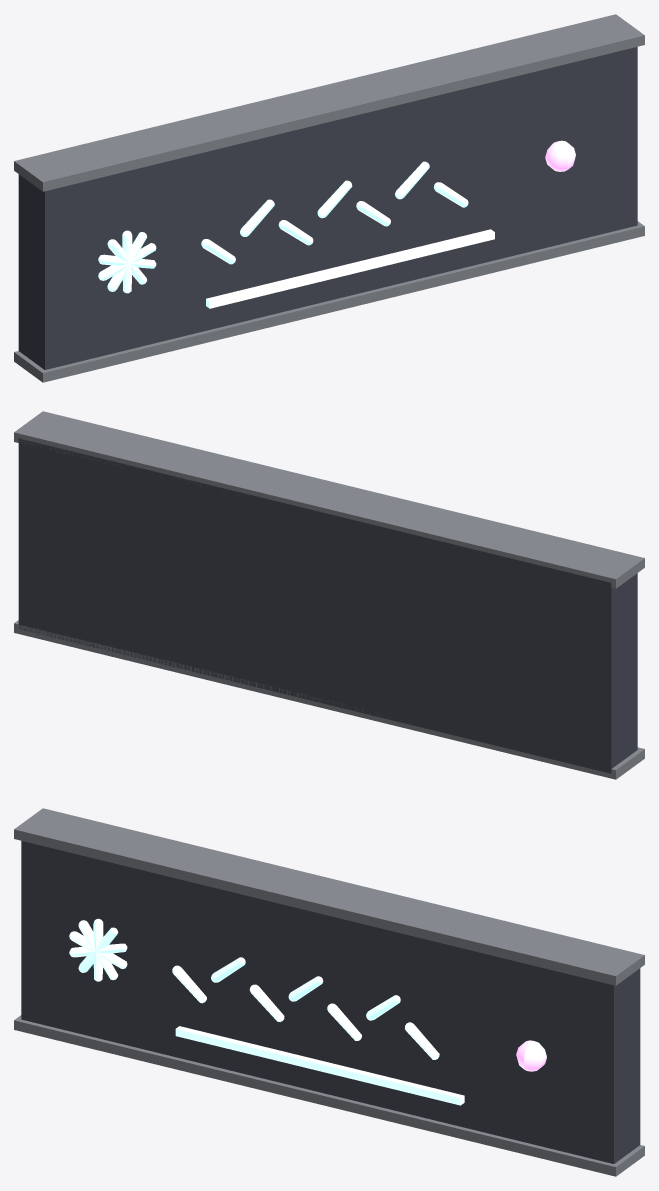
Rendered from prop_neon_sign_blue.glb.
The picture shows the model from 3 angles, top to bottom: view 1: azimuth 30°, elevation 25°; view 2: azimuth 150°, elevation 25°; view 3: azimuth 330°, elevation 25°; orthographic projection.
Visible parts, largest first — view 1: prop_neon_sign_blue; view 2: prop_neon_sign_blue; view 3: prop_neon_sign_blue.
Boxes of the visible parts, box(x1,y1,x2,y2) form: prop_neon_sign_blue: box(14, 14, 644, 382); prop_neon_sign_blue: box(14, 411, 644, 779); prop_neon_sign_blue: box(14, 808, 644, 1176).
Size of the model in its own units: 2.64 by 0.84 by 0.28.
